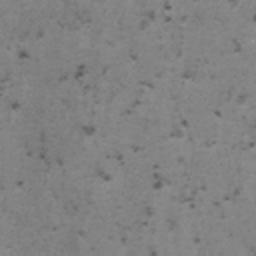Oxide scale of temperature system: (15, 0, 256, 256), (0, 49, 32, 111), (137, 0, 175, 32)
